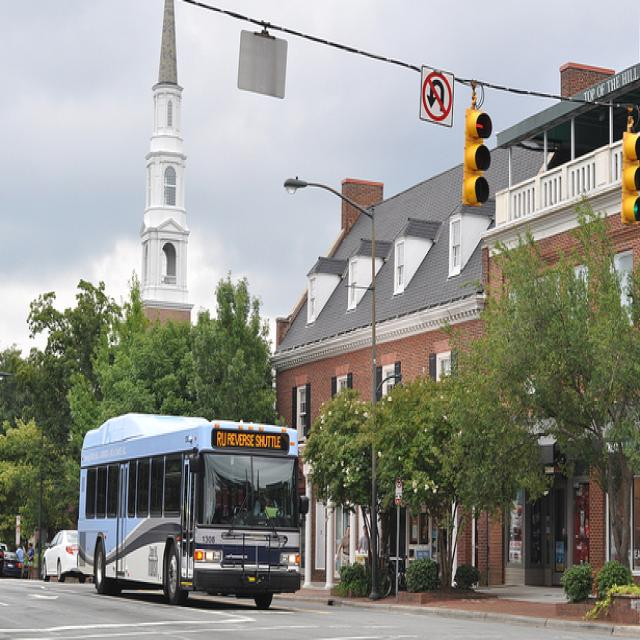Vehicle: (76, 412, 307, 604), (41, 528, 89, 584), (2, 552, 22, 578), (0, 536, 4, 576)
